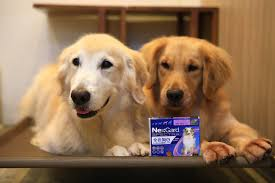dog: (67, 53, 120, 121), (156, 57, 203, 114)
